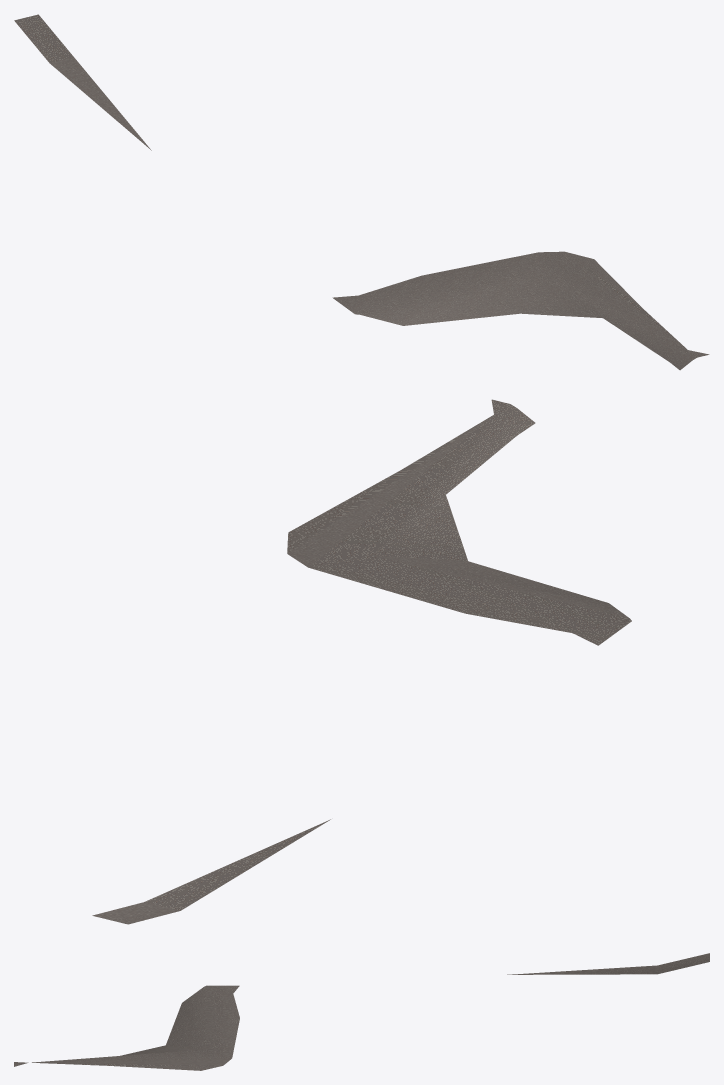
The model's file is kd_stage_135b75_4_143_bounded.glb.
3 renders of one model, top to bottom at view 1: azimuth 30°, elevation 25°; view 2: azimuth 150°, elevation 25°; view 3: azimuth 270°, elevation 25°, orthographic. The views are drawn at different scales.
Parts seen in each view (by area): view 1: kd_stage_135b75_4_143_bounded; view 2: kd_stage_135b75_4_143_bounded; view 3: kd_stage_135b75_4_143_bounded.
Boxes of the visible parts, bbox=[...] form: kd_stage_135b75_4_143_bounded: bbox=[14, 14, 709, 370]; kd_stage_135b75_4_143_bounded: bbox=[92, 399, 631, 924]; kd_stage_135b75_4_143_bounded: bbox=[14, 953, 709, 1070].
Size of the model in its own units: 1.35 by 0.3146 by 4.68.
Materials: 1 (1 with a texture image).
